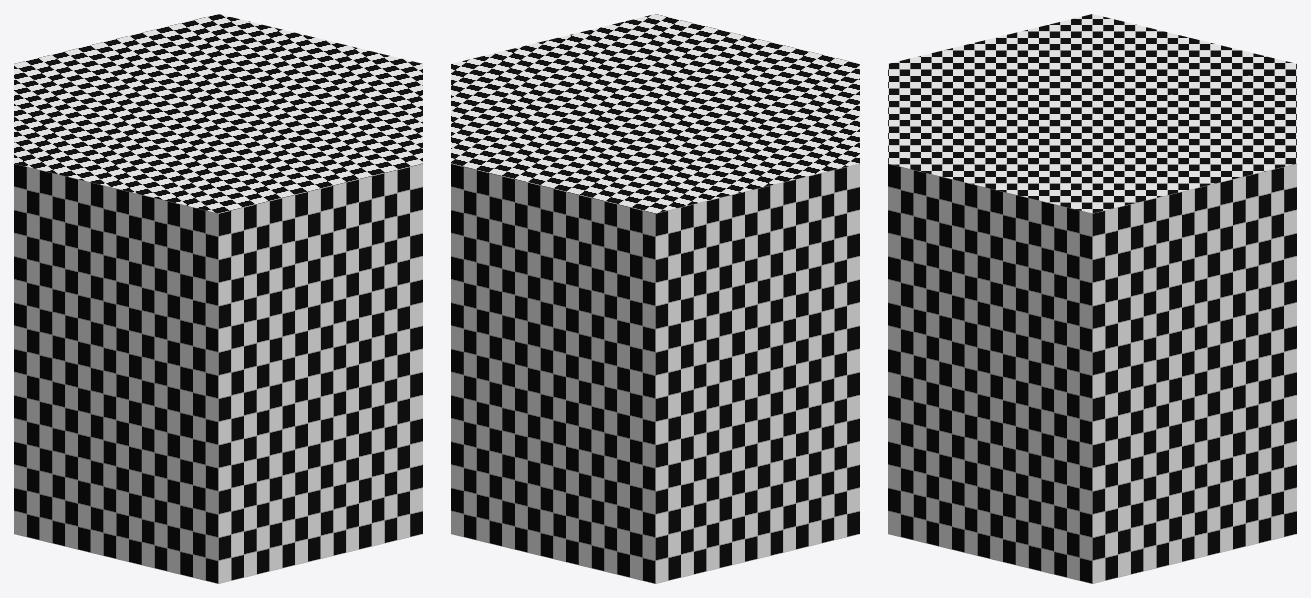
The model's file is dummyWall_HEX.fbx.
The picture shows the model from 3 angles, left to right: view 1: azimuth 30°, elevation 25°; view 2: azimuth 150°, elevation 25°; view 3: azimuth 270°, elevation 25°; orthographic projection.
Parts seen in each view (by area): view 1: polySurface1; view 2: polySurface1; view 3: polySurface1.
Boxes of the visible parts, x1,y1,x2,y2 form: polySurface1: [14, 14, 422, 583]; polySurface1: [451, 14, 859, 583]; polySurface1: [888, 14, 1296, 583].
Size of the model in its own units: 2.31 by 2 by 2.
